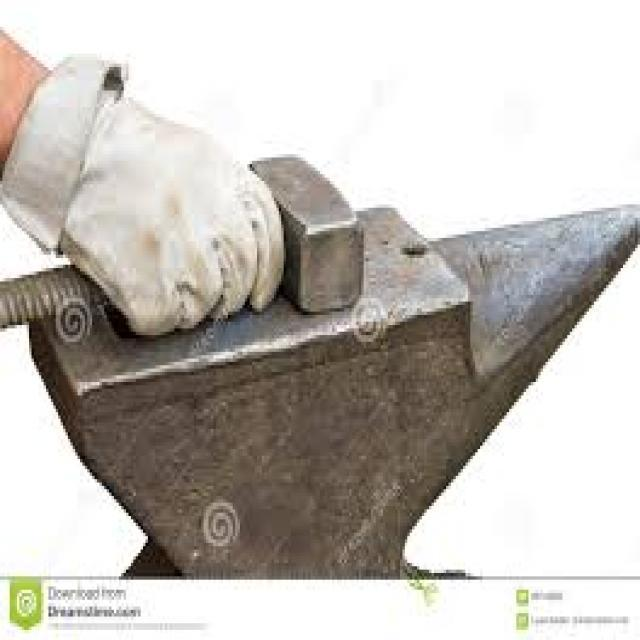hammer: (0, 136, 366, 364)
